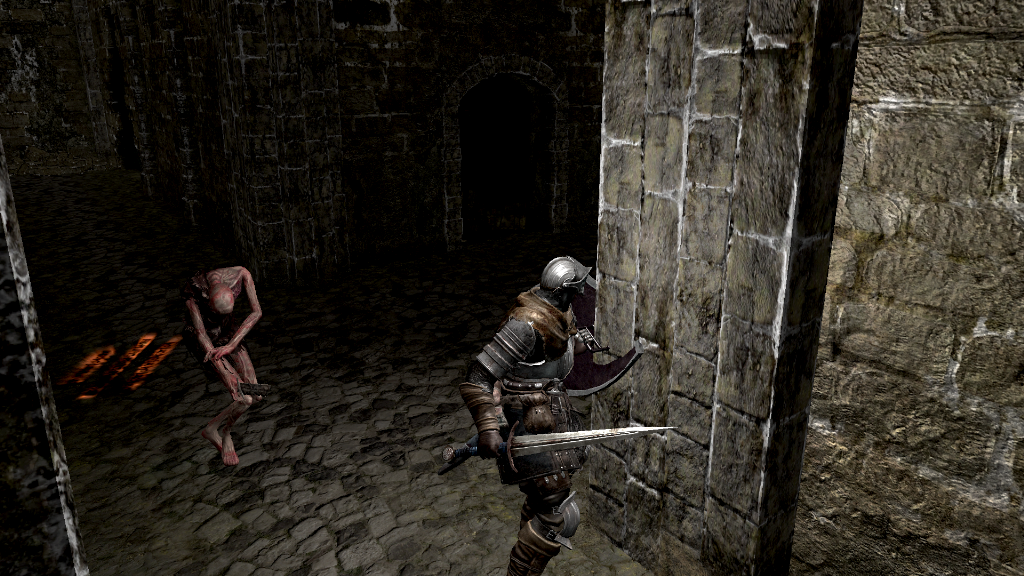hollow: (182, 264, 264, 465)
player: (441, 253, 680, 576)
